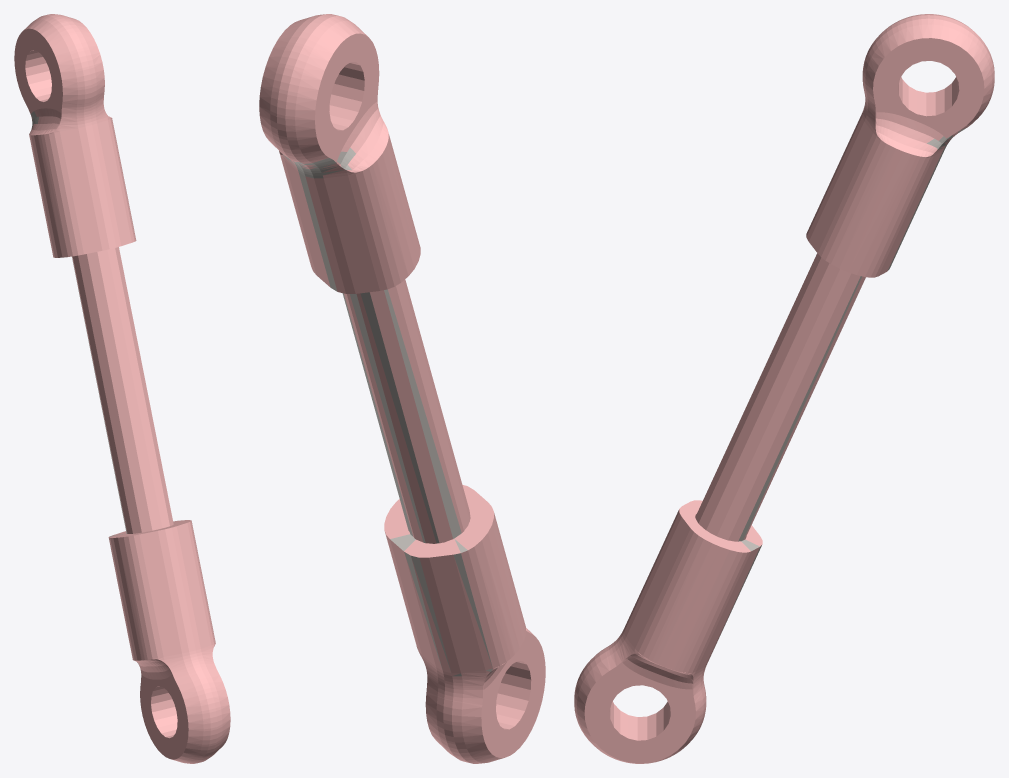
The model's file is Left Link.glb.
The picture shows the model from 3 angles, left to right: view 1: azimuth 30°, elevation 25°; view 2: azimuth 150°, elevation 25°; view 3: azimuth 270°, elevation 25°; orthographic projection. The views are drawn at different scales.
Bounding box in the file's own units: 0.007 × 0.0589 × 0.0302.
